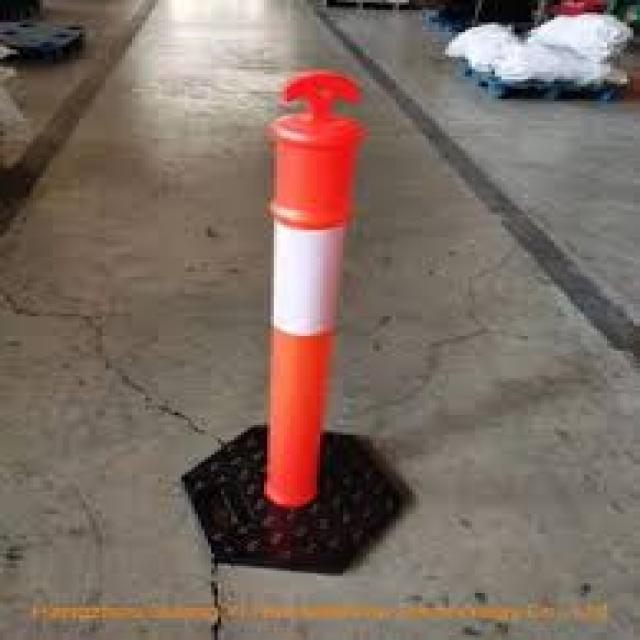bollard: (188, 52, 424, 585)
